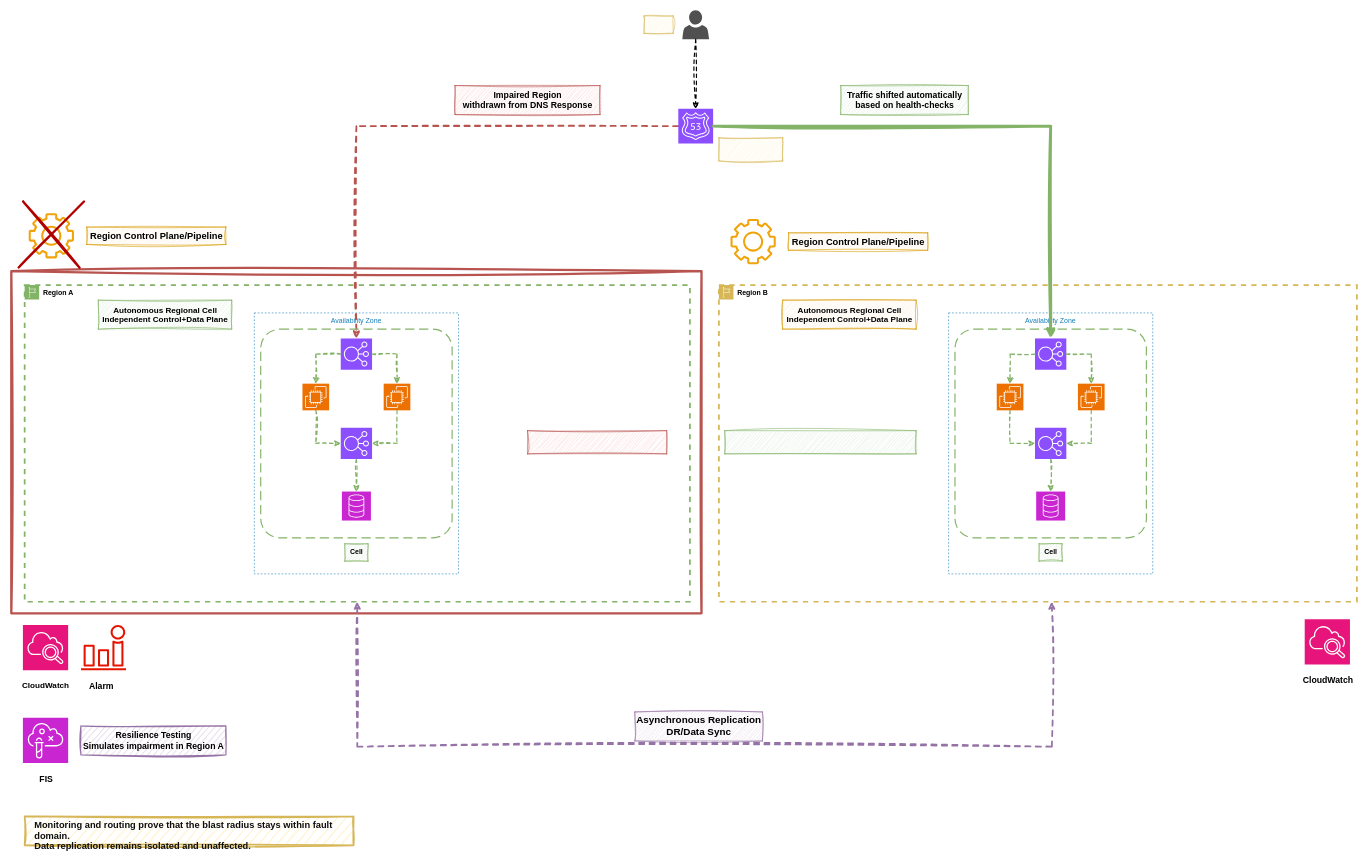
This 1368x860 diagram has some shape labels left out. The centre of each missing label's shape, as x and y in pixels:
Fault Injected here: (597,442)
Healthy Region Unaffected: (820,442)
Routing Policy Health/Latency: (750,149)
Users: (658,24)
